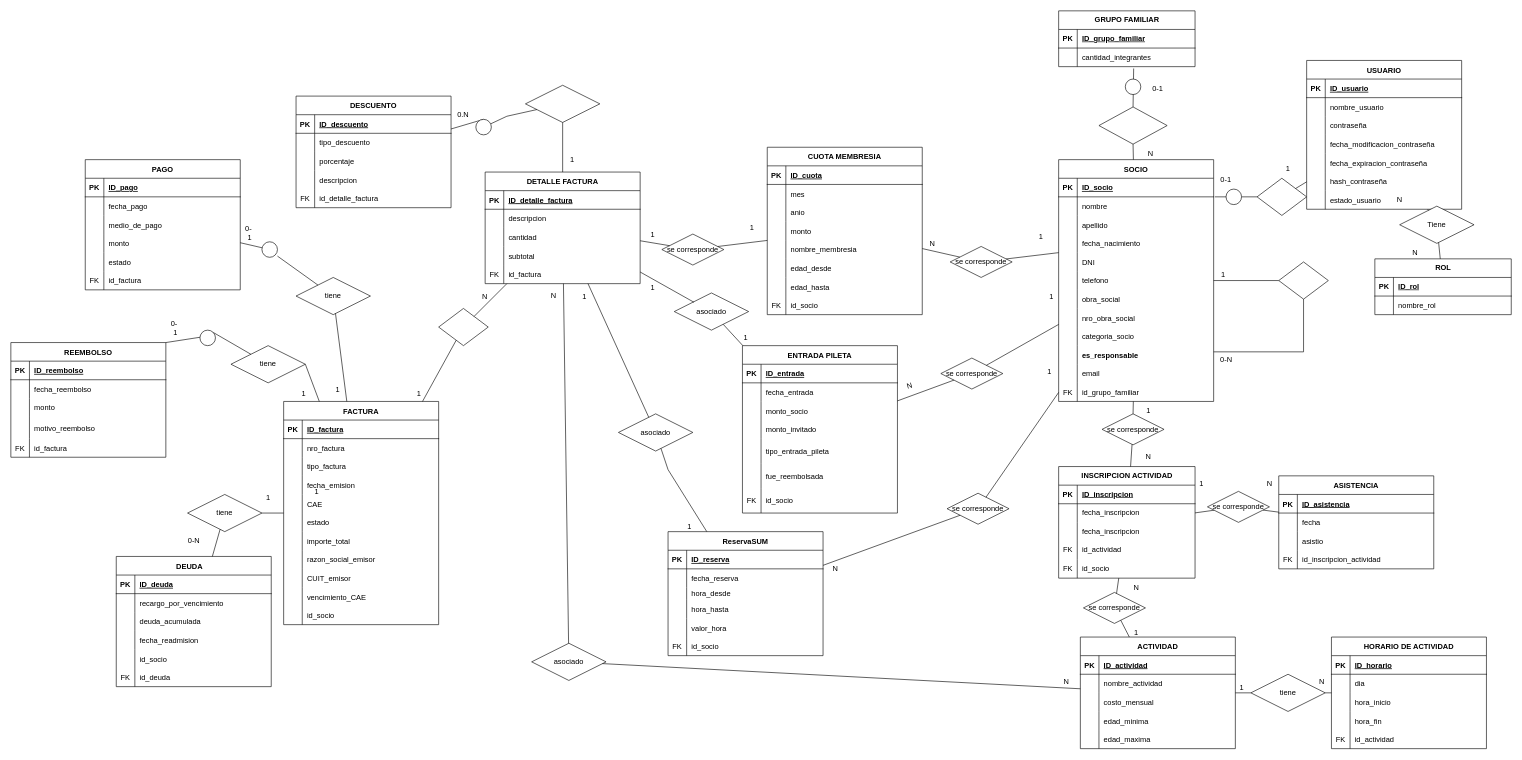
This 1522x760 diagram has some shape labels left out. The shapes that lost their labels are listed below. From the top down, each one's centre as x and y in pixels, then its label:
At (562,103): "aplica".
At (1132,125): "Pertenece".
At (1281,196): "representa".
At (1303,280): "a cargo de".
At (463,327): "detalla".
